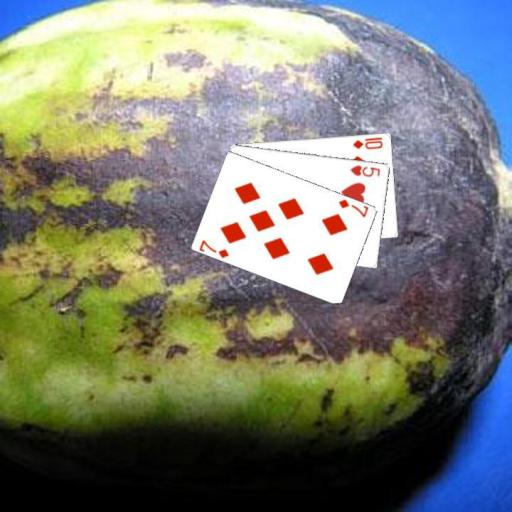10D: (350, 134, 385, 150)
5H: (347, 161, 382, 178)
7D: (336, 196, 370, 219), (197, 237, 231, 259)
